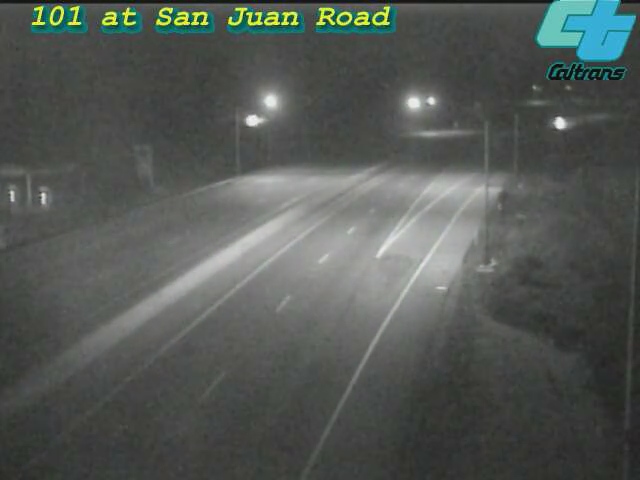vehicle: (537, 99, 587, 149)
